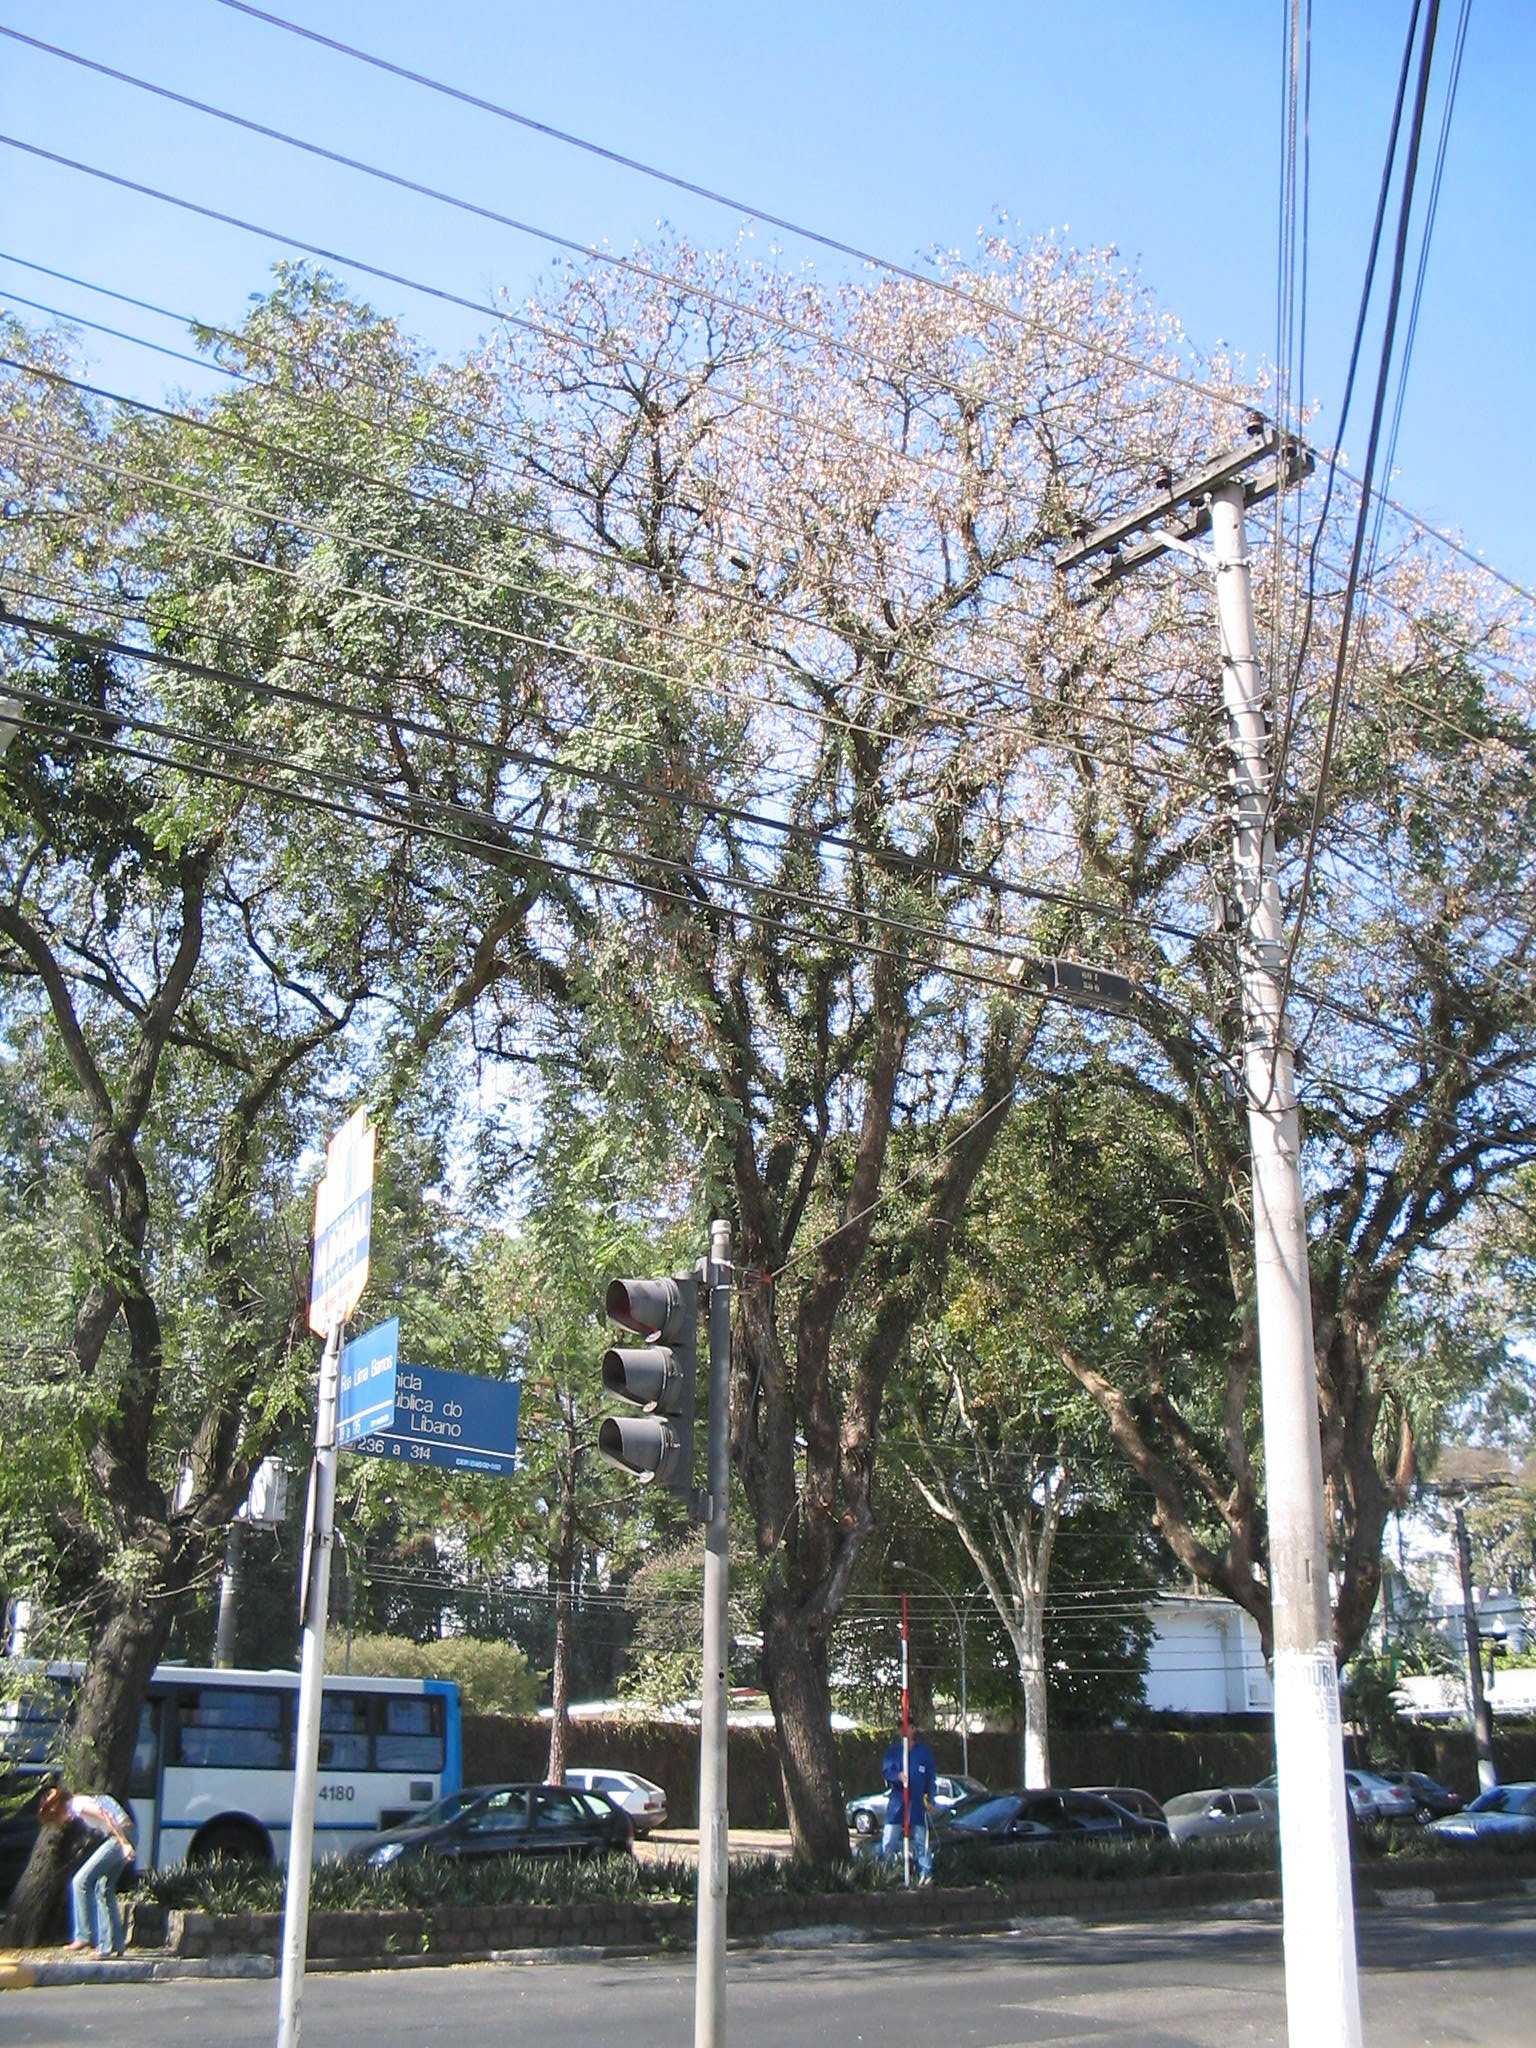crown: (189, 240, 1460, 1187), (6, 303, 515, 1024)
stem: (6, 1534, 181, 1942), (739, 1616, 883, 1890)
stick: (884, 1587, 933, 1888)
tree: (177, 229, 1467, 1890), (2, 297, 523, 1946)
